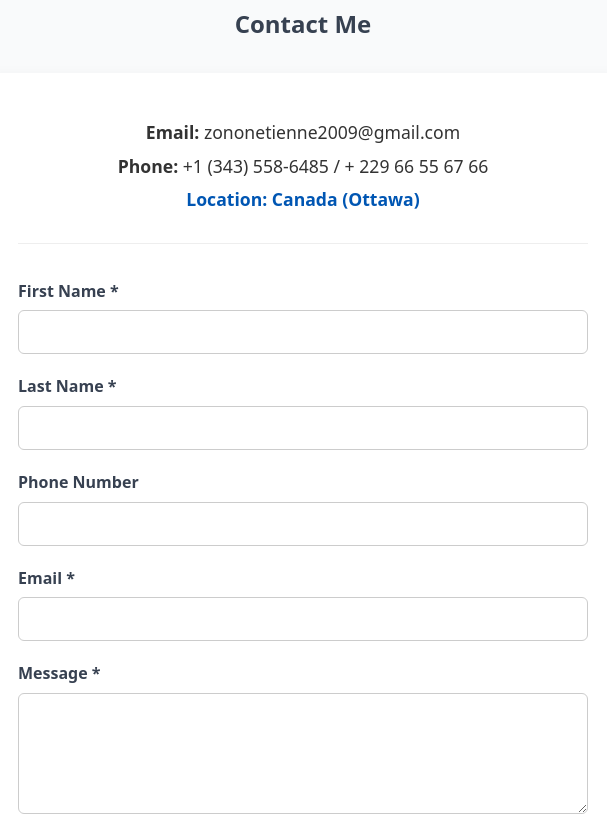
Test: saves a valid message and clears the form
Type "Etienne" into the field labelled "First Name *" at (303, 332), box x1=18 y1=310 x2=588 y2=354
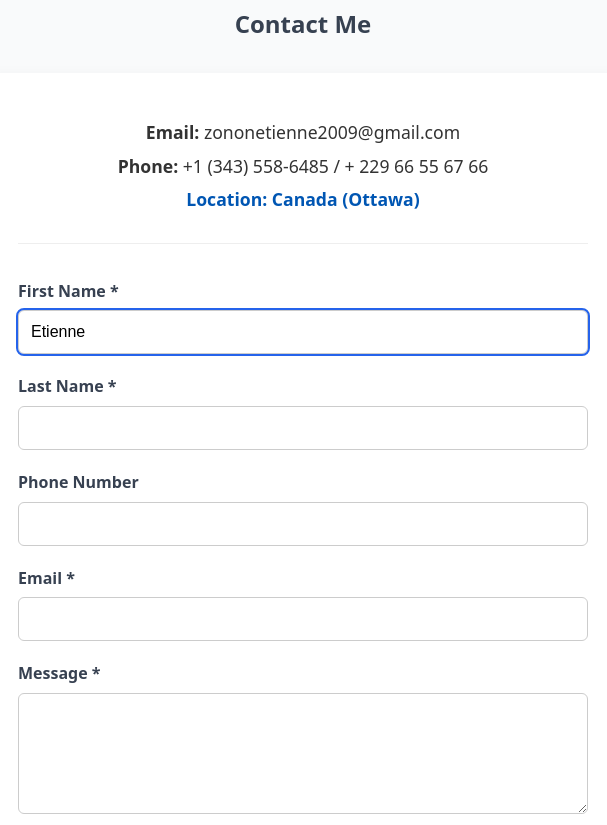
Type "Zonon" into the field labelled "Last Name *" at (303, 428), box x1=18 y1=406 x2=588 y2=450
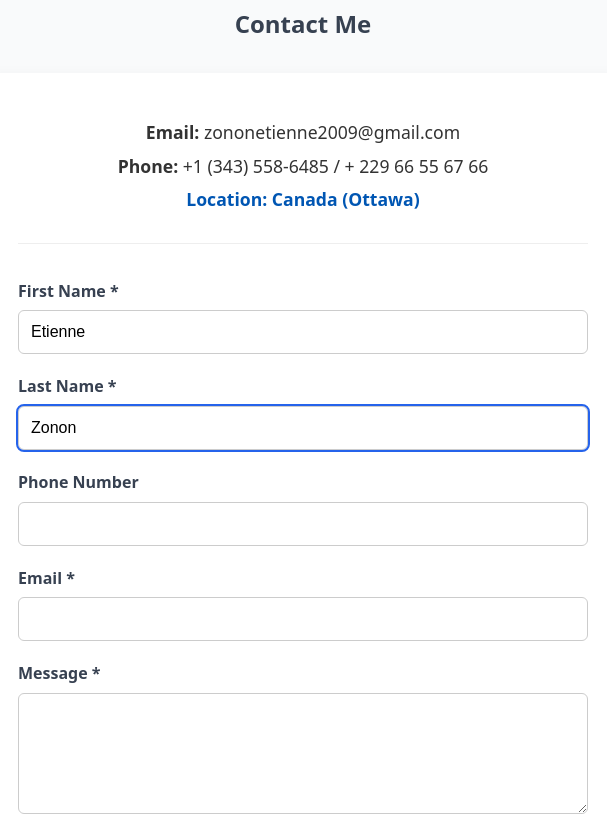
Type "etienne@example.com" into the field labelled "Email *" at (303, 619), box x1=18 y1=597 x2=588 y2=641
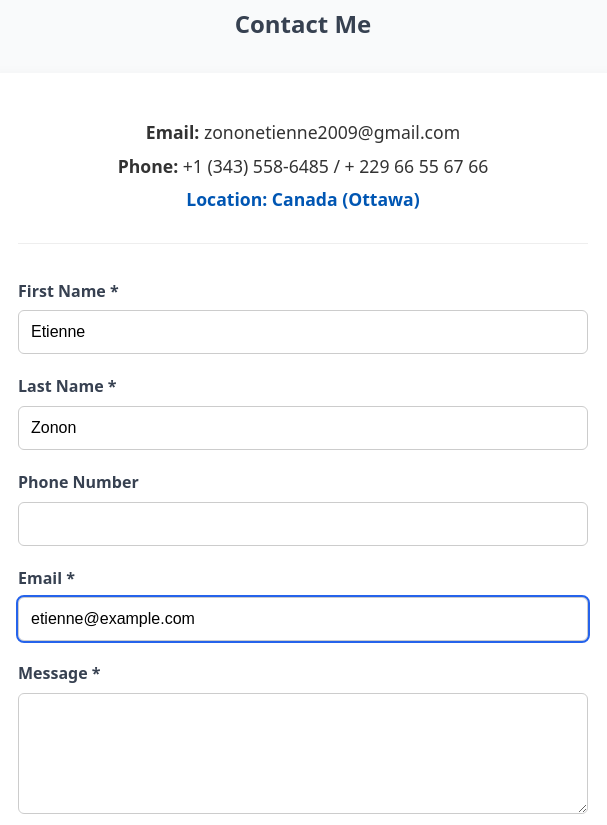
Type "Hello from the portfolio" into the text box labelled "Message *" at (303, 753), box x1=18 y1=693 x2=588 y2=814
(page scrolled)
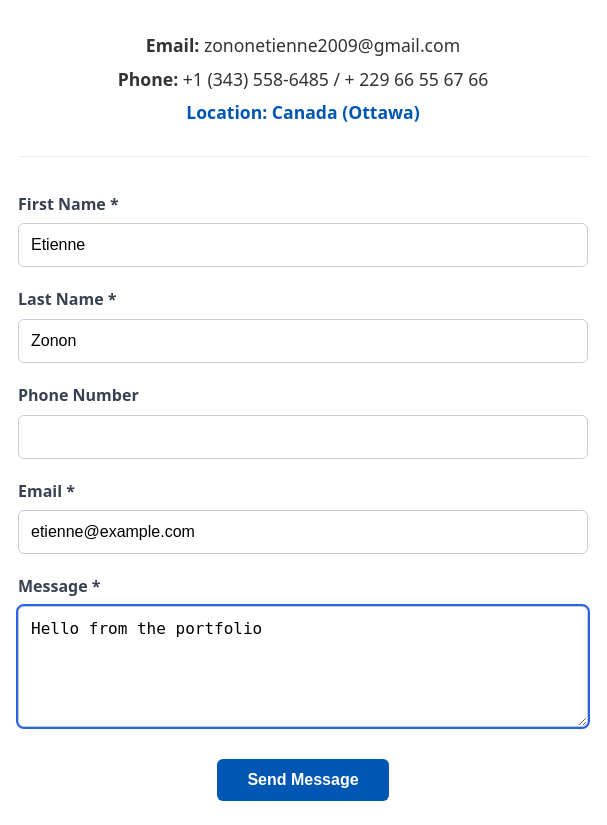
Click the button "Send Message" at (303, 780), box x1=217 y1=759 x2=389 y2=801
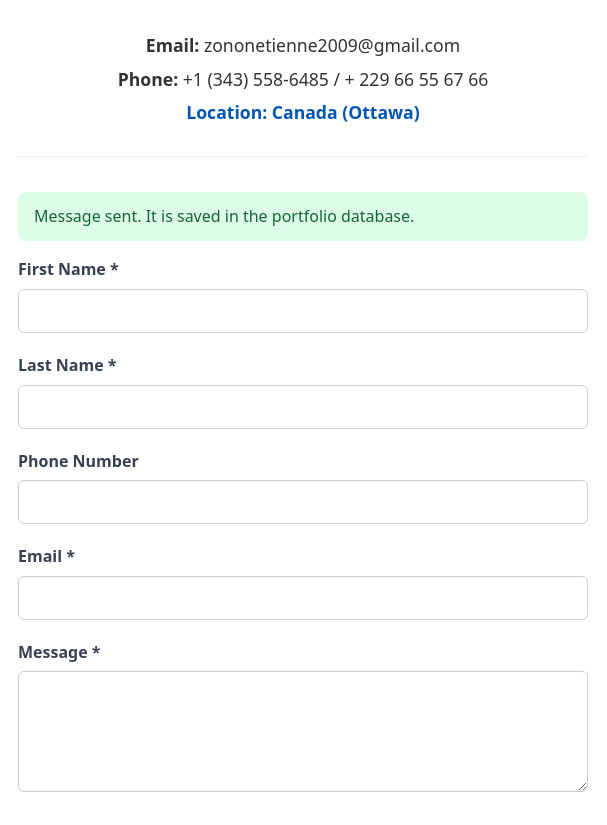
Check: the message reads "Message sent. It is saved in the portfolio database.", box x1=34 y1=205 x2=414 y2=227
Check: the field labelled "First Name *" is empty, box x1=18 y1=289 x2=588 y2=333
